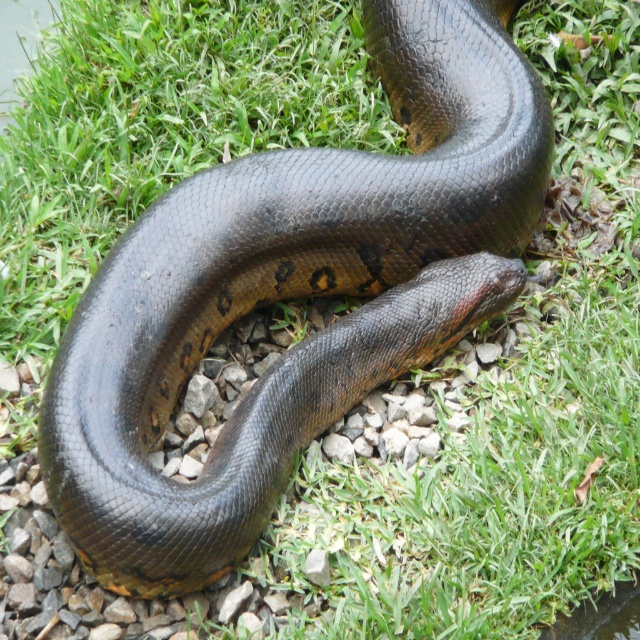Snake: (39, 0, 555, 556)
